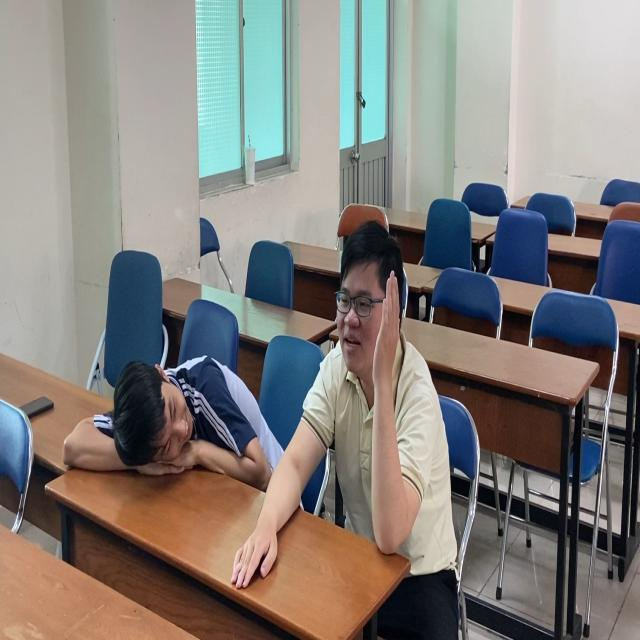raise_hand: (308, 221, 449, 570)
sleep: (61, 340, 279, 512)
